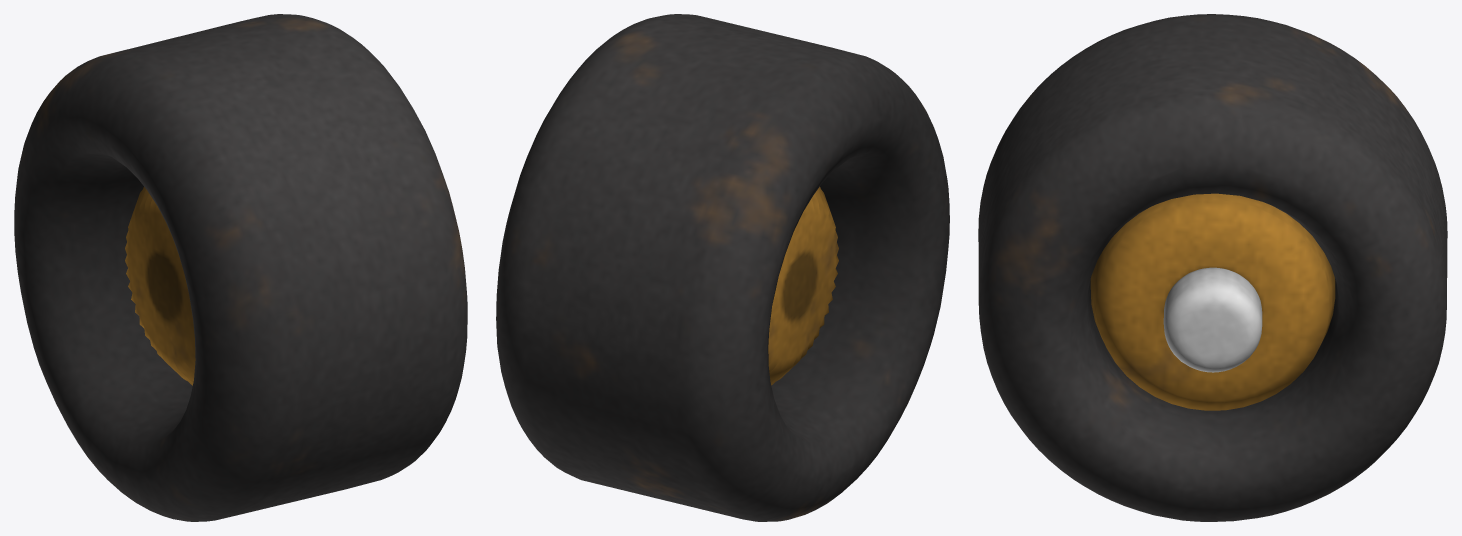
3 renders of one model, left to right at view 1: azimuth 30°, elevation 25°; view 2: azimuth 150°, elevation 25°; view 3: azimuth 270°, elevation 25°, orthographic. The views are drawn at different scales.
Visible parts, largest first — view 1: wheel_RL; view 2: wheel_RL; view 3: wheel_RL.
Part boxes in pixels (bbox=[...]): wheel_RL: bbox=[14, 14, 467, 521]; wheel_RL: bbox=[496, 14, 949, 521]; wheel_RL: bbox=[978, 14, 1447, 521].
Bounding box in the file's own units: 0.2587 × 0.3989 × 0.399.
Materials: 1 (1 with a texture image).
